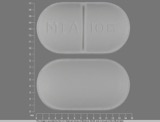Acetaminophen 325 MG Oral Tablet: (35, 1, 132, 56), (36, 57, 133, 112)
